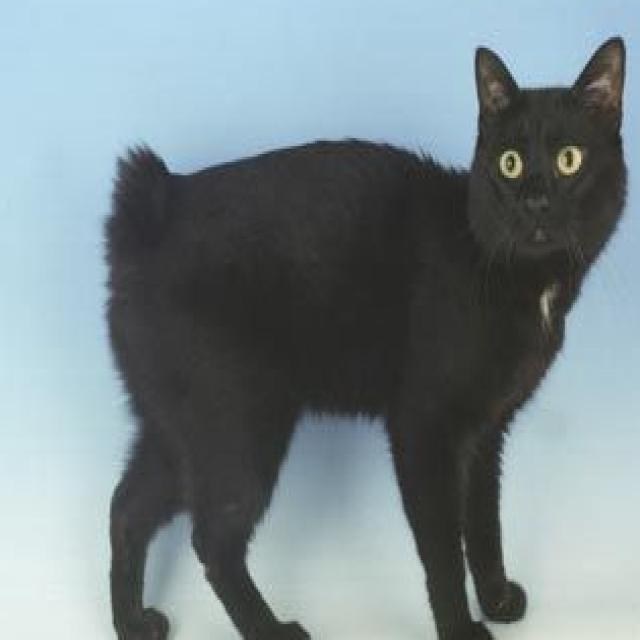American Bobtail: (95, 26, 633, 640)
